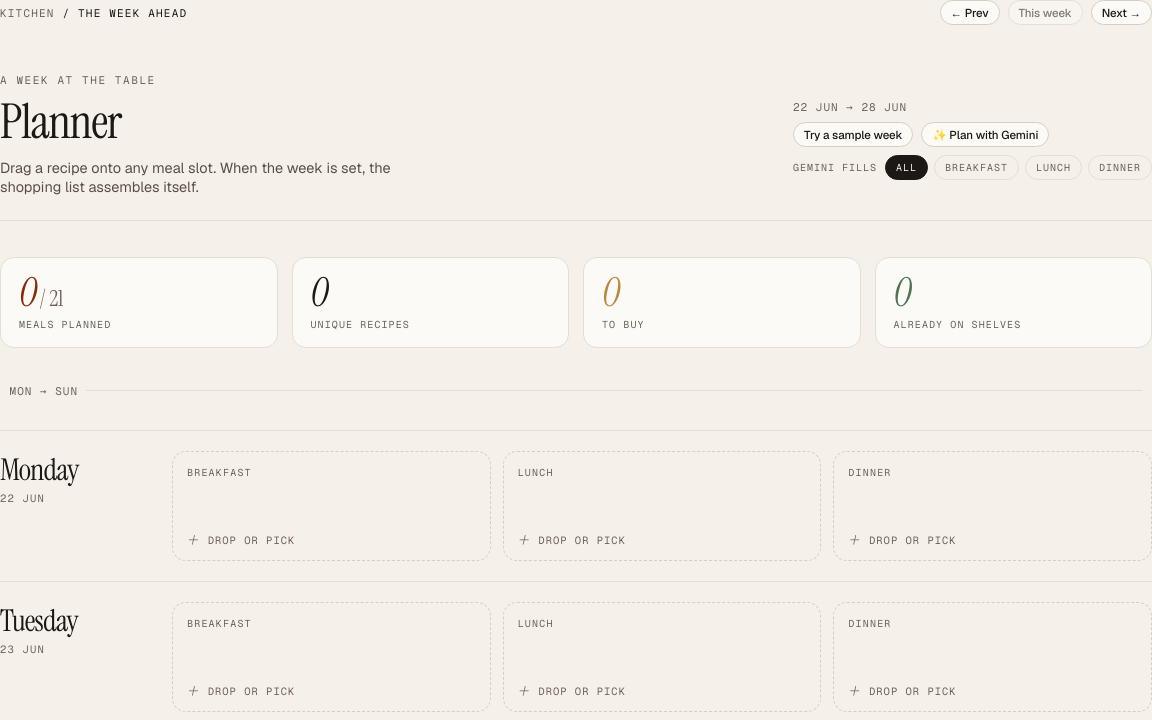
Test: PlannerScreen – recipe picker modal › picker modal lists all recipes
The image size is (1152, 720).
Click the 1st button "+ drop or pick" at (251, 540), box [187, 533, 476, 548]
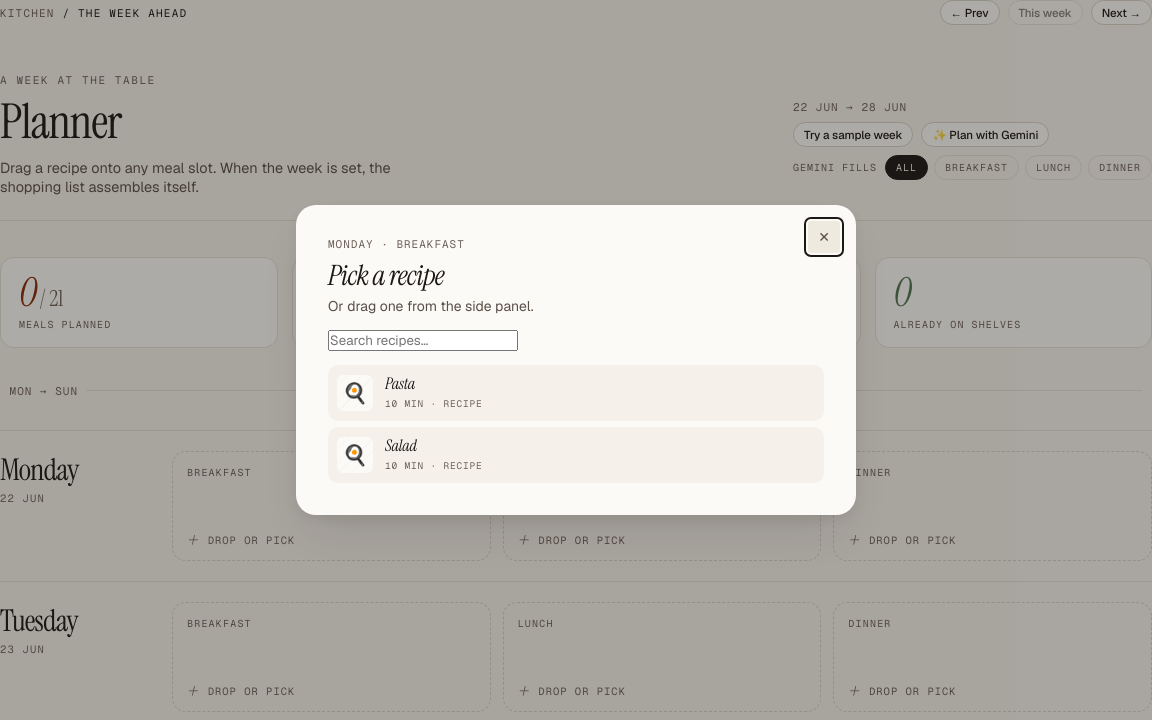
Result: the text "Pasta" is shown at [385, 374, 415, 394]
Result: the text "Salad" is shown at [385, 436, 417, 456]
